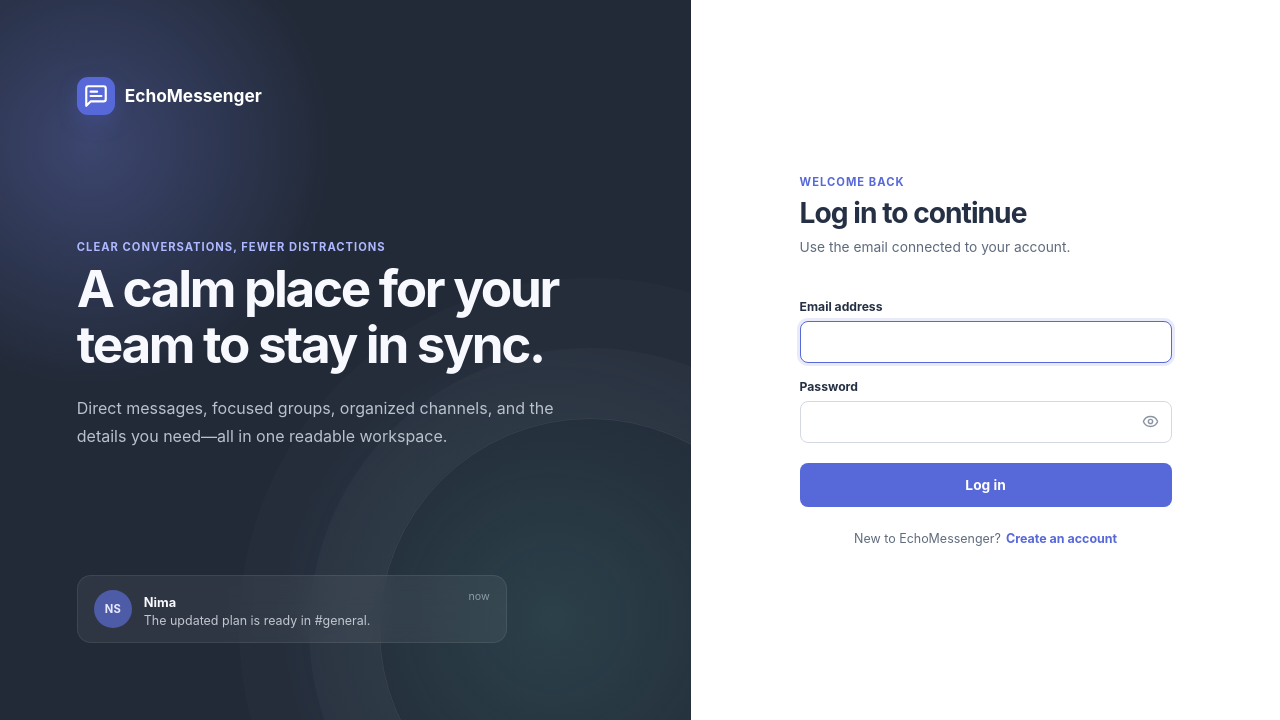
AuthScreen › validates matching passwords before registration
Step 1. Click the button "Create an account" → (1062, 538), box 1006,530 -> 1117,546
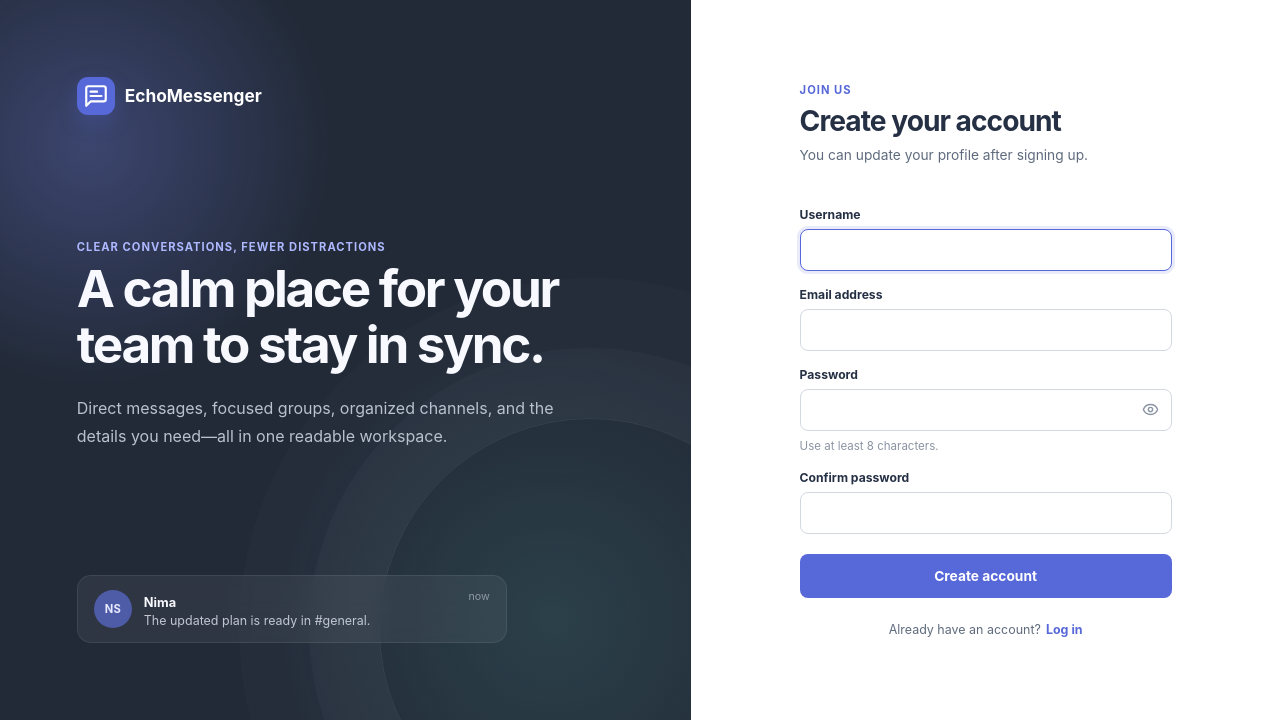
Step 2. Type "Sina" into the field labelled "Username" → (986, 250), box 800,229 -> 1172,271
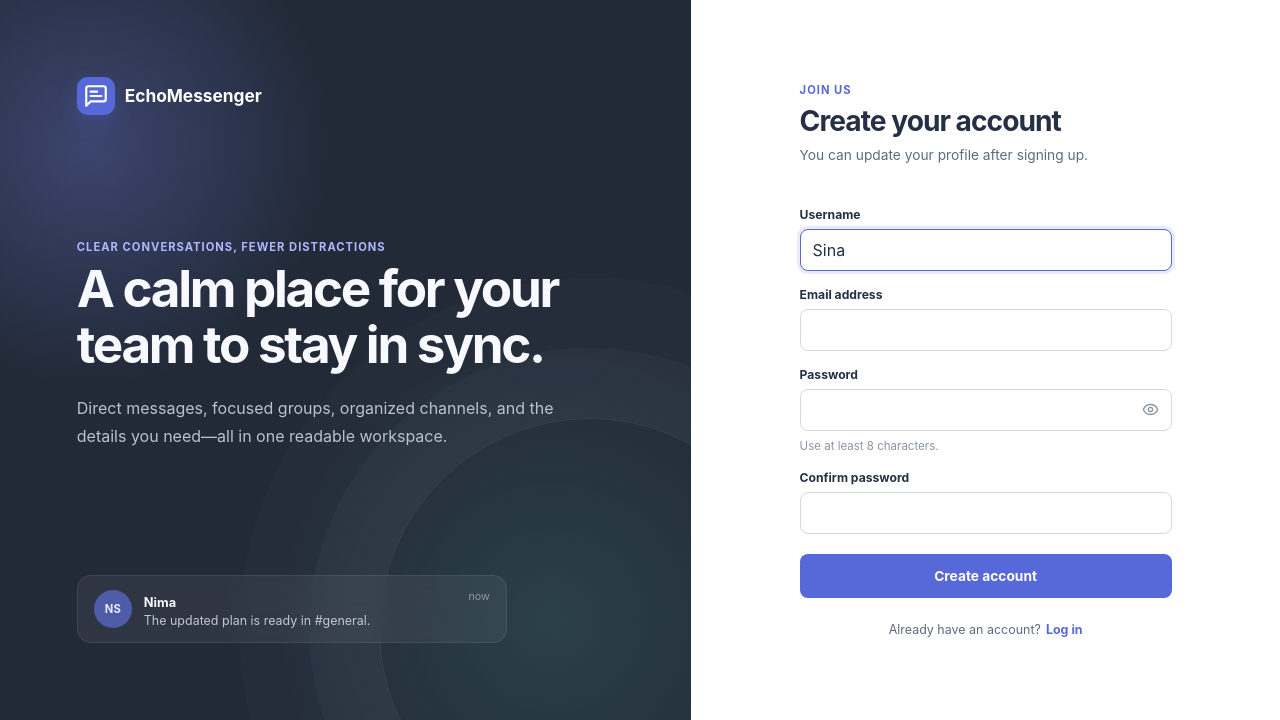
Step 3. Type "sina@example.com" into the field labelled "Email address" → (986, 330), box 800,309 -> 1172,351
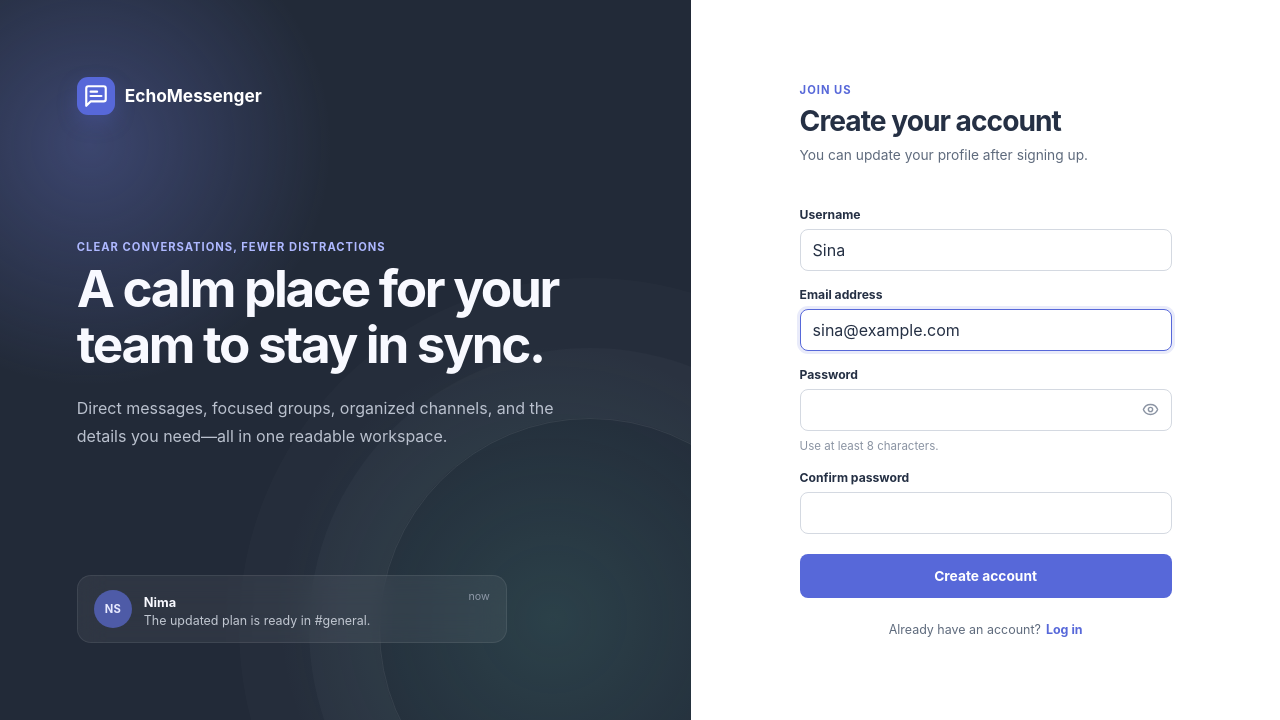
Step 4. Type "safe-password" into the password field labelled "Password" → (986, 410), box 800,389 -> 1172,431
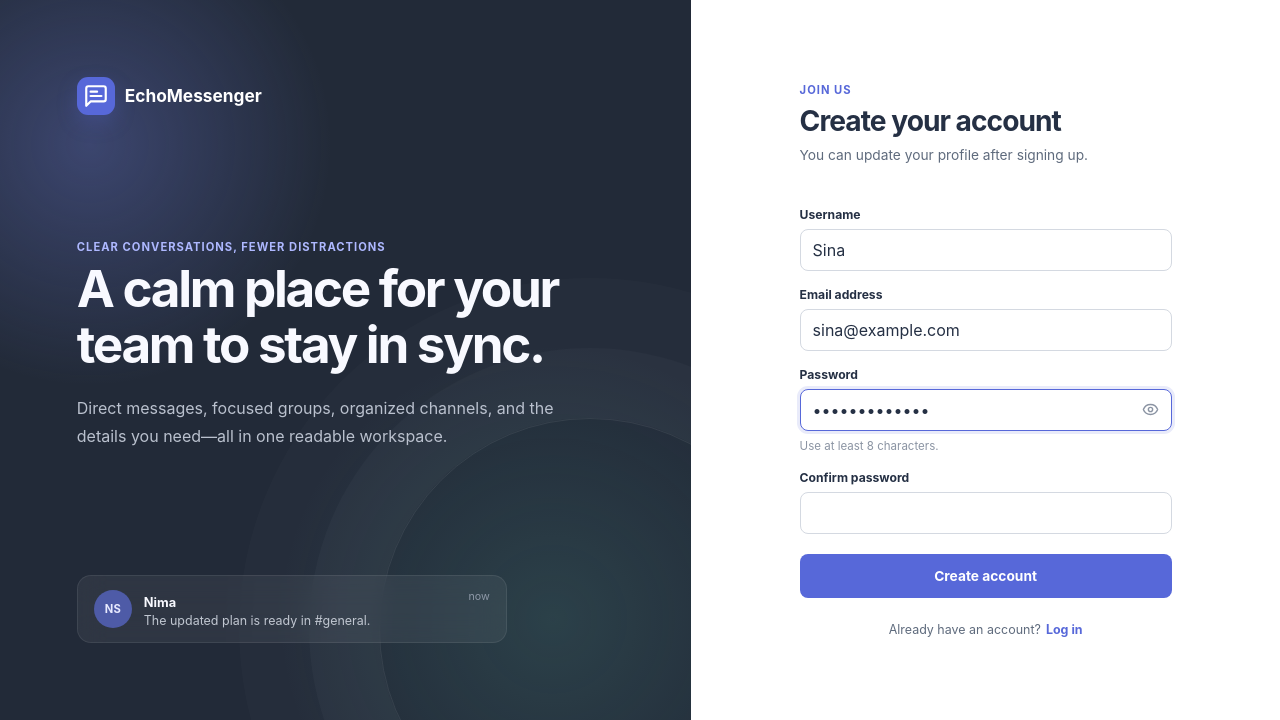
Step 5. Type "different-password" into the password field labelled "Confirm password" → (986, 513), box 800,492 -> 1172,534
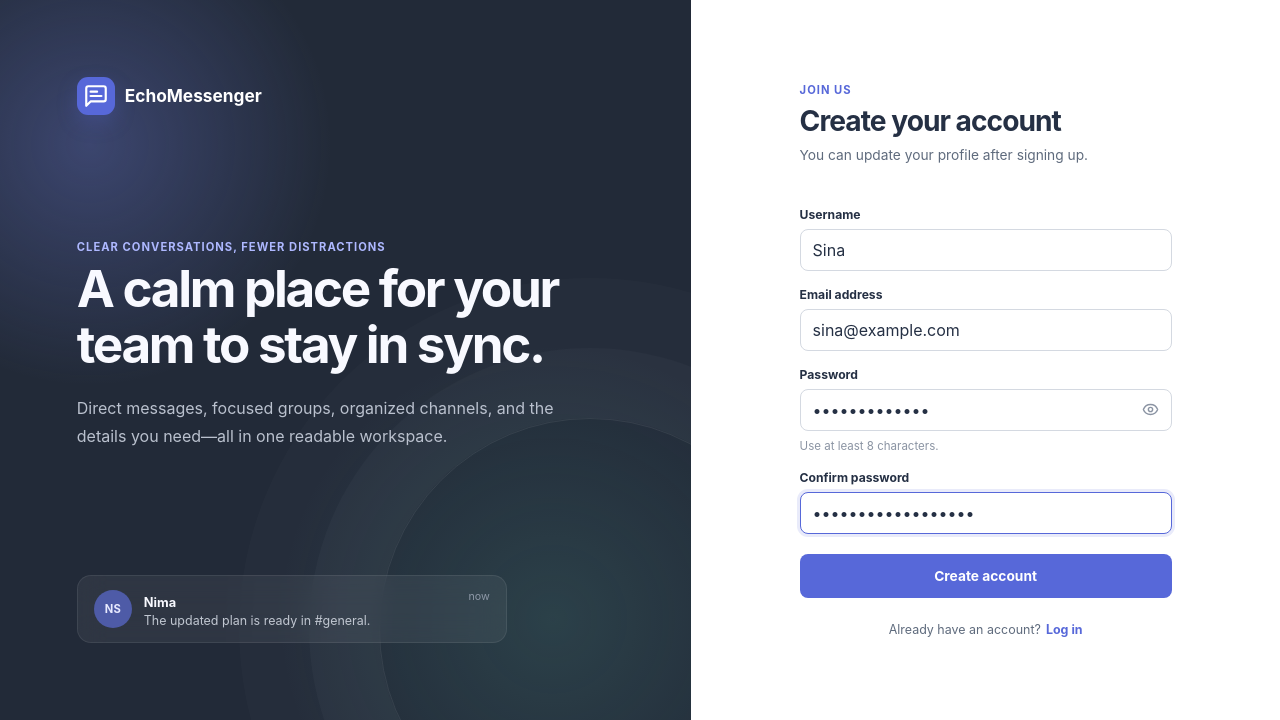
Step 6. Click the button "Create account" → (986, 576), box 800,554 -> 1172,598
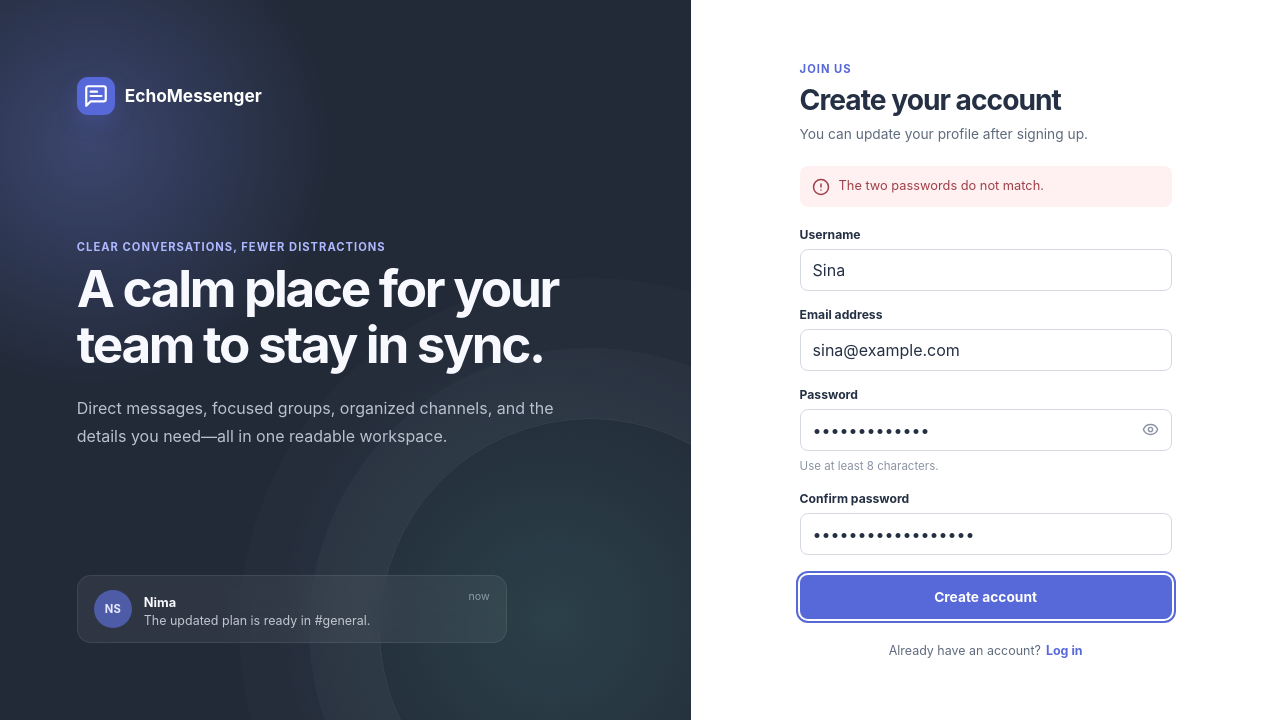
Expected: the text "The two passwords do not match." is shown, 839,178 -> 1044,193
